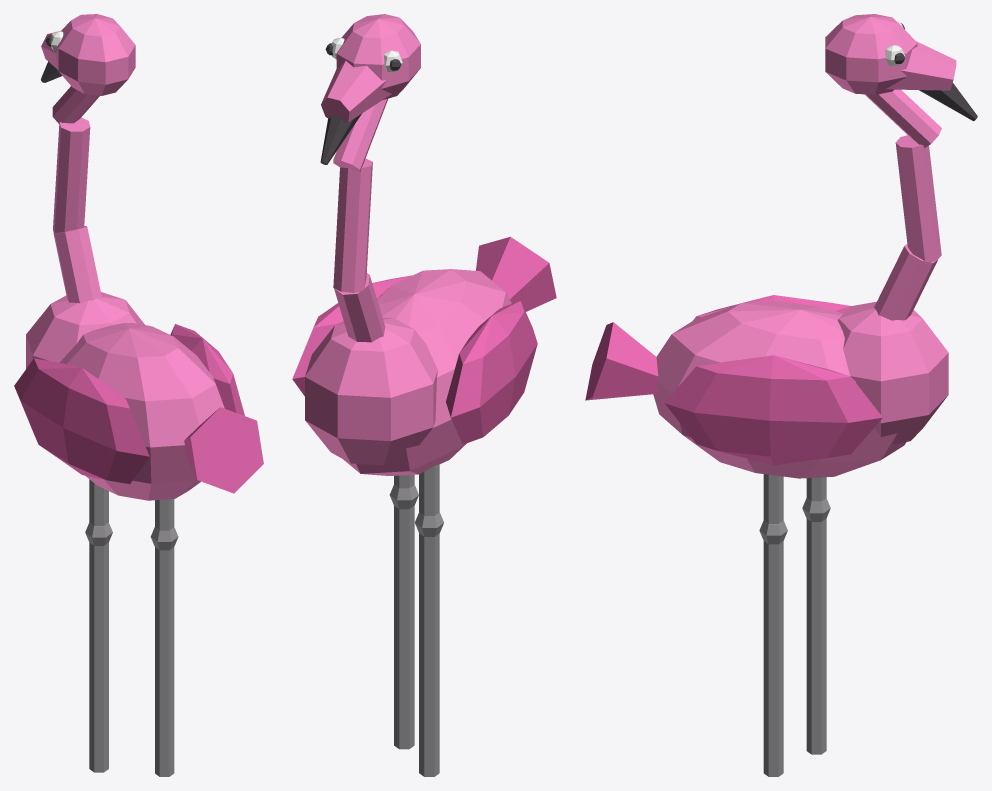
The model's file is flamingo_stand.glb.
3 views of the same model, side by side, from view 1: azimuth 30°, elevation 25°; view 2: azimuth 150°, elevation 25°; view 3: azimuth 270°, elevation 25° (orthographic). The views are drawn at different scales.
Parts seen in each view (by area): view 1: flamingo_stand; view 2: flamingo_stand; view 3: flamingo_stand.
Part boxes in pixels (x1=…): flamingo_stand: x1=14, y1=14, x2=263, y2=776; flamingo_stand: x1=292, y1=14, x2=556, y2=776; flamingo_stand: x1=585, y1=14, x2=977, y2=776.
Size of the model in its own units: 0.2832 by 1.15 by 0.5492.
